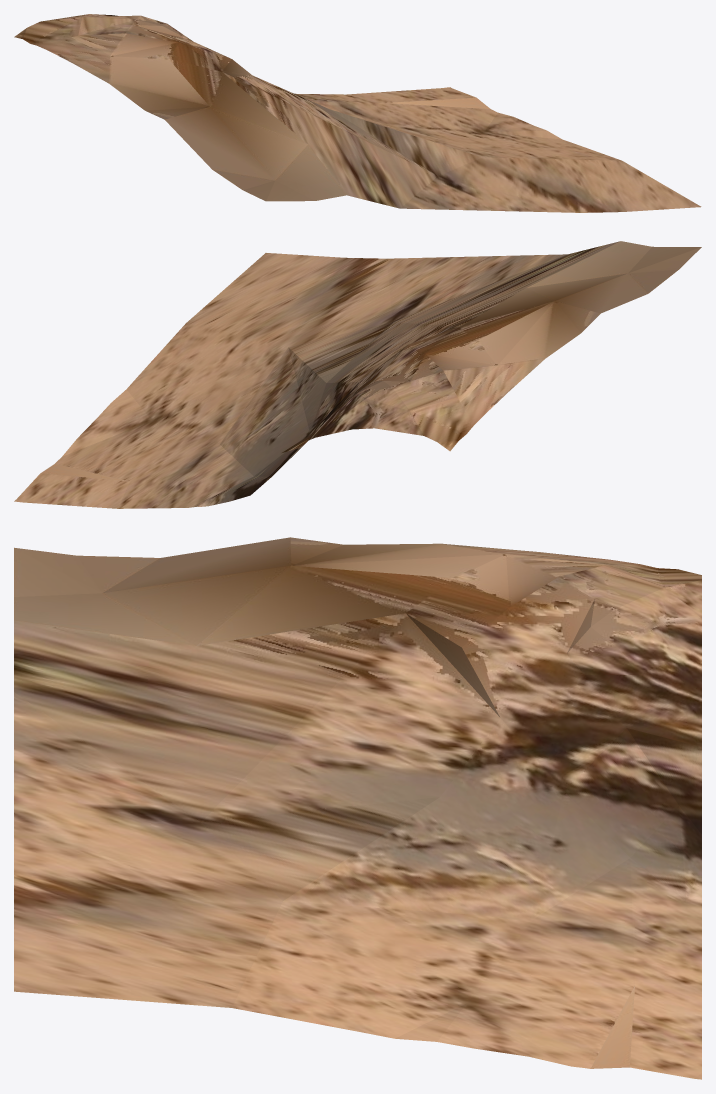
3 renders of one model, top to bottom at view 1: azimuth 30°, elevation 25°; view 2: azimuth 150°, elevation 25°; view 3: azimuth 270°, elevation 25°, orthographic. The views are drawn at different scales.
Bounding box in the file's own units: 1.04 × 0.4248 × 1.04.
Materials: 3 (3 with a texture image).
